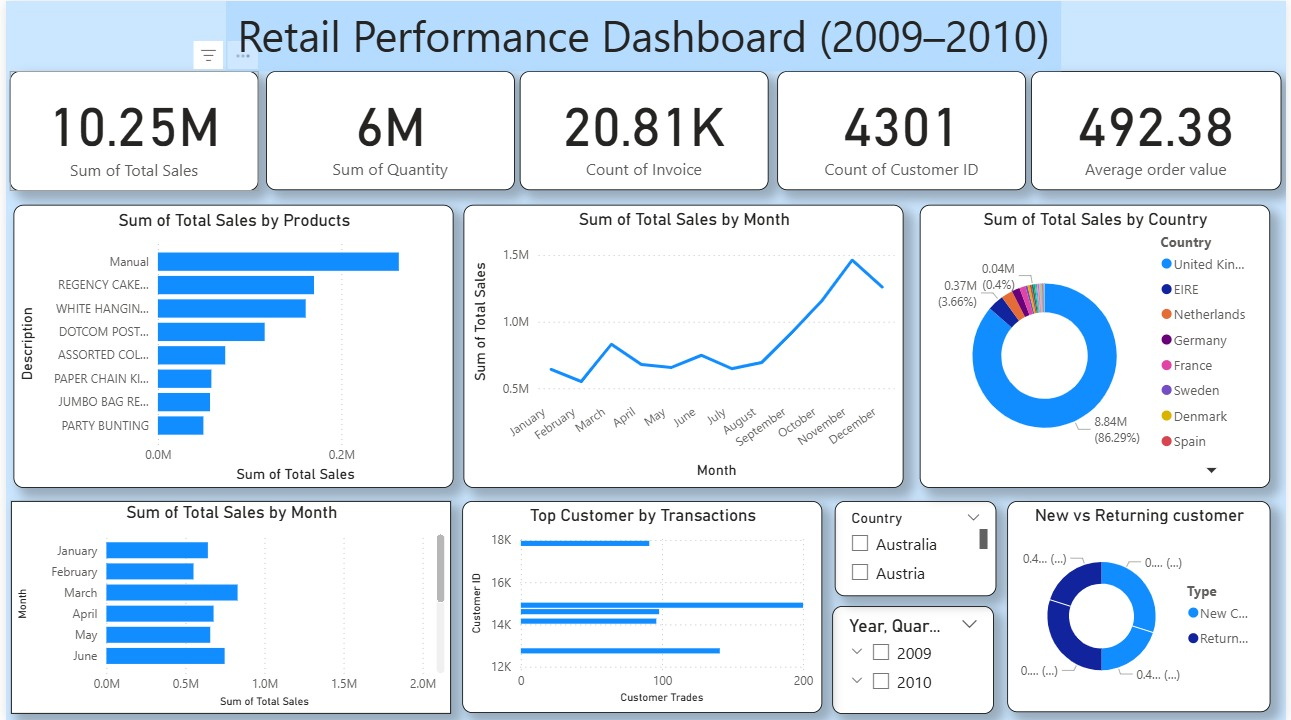

The dashboard page shown, as its layout file describes it:
{"tool":"powerbi","page":{"name":"Page 1","canvas":[1280,720],"ordinal":0},"visuals":[{"type":"card","fields":{"Values":["Sum(Year 2009-2010.Total Sales)"]},"box":[4,70,249,120],"z":0},{"type":"card","fields":{"Values":["Sum(Year 2009-2010.Quantity)"]},"box":[260,70,248.8,119.4],"z":1000},{"type":"card","fields":{"Values":["Count(Year 2009-2010.Invoice)"]},"box":[514,70,248.8,119.4],"z":2000},{"type":"card","fields":{"Values":["Count(Year 2009-2010.Customer ID)"]},"box":[771,70,248.8,119.4],"z":3000},{"type":"card","fields":{"Values":["Year 2009-2010.Average order value"]},"box":[1025,70,250,119.4],"z":4000},{"type":"clusteredBarChart","title":"Sum of Total Sales by Products","fields":{"Y":["Sum(Year 2009-2010.Total Sales)"],"Category":["Year 2009-2010.Description"]},"box":[4,204,440,283.3],"z":5000},{"type":"lineChart","fields":{"Y":["Sum(Year 2009-2010.Total Sales)"],"Category":["Year 2009-2010.InvoiceDate.Variation.Date Hierarchy.Month"]},"box":[457.1,204,440,282.9],"z":6000},{"type":"slicer","fields":{"Values":["Year 2009-2010.InvoiceDate.Variation.Date Hierarchy.Year","Year 2009-2010.InvoiceDate.Variation.Date Hierarchy.Quarter","Year 2009-2010.InvoiceDate.Variation.Date Hierarchy.Month","Year 2009-2010.InvoiceDate.Variation.Date Hierarchy.Day"]},"box":[826.7,605,161.7,108.3],"z":8000},{"type":"slicer","fields":{"Values":["Year 2009-2010.Country"]},"box":[828.3,500,161.7,95],"z":9000},{"type":"clusteredBarChart","fields":{"Category":["Year 2009-2010.InvoiceDate.Variation.Date Hierarchy.Month"],"Y":["Sum(Year 2009-2010.Total Sales)"]},"box":[5,500,440,212.5],"z":10000},{"type":"donutChart","fields":{"Category":["Year 2009-2010.Country"],"Y":["Sum(Year 2009-2010.Total Sales)"]},"box":[908.6,204,350,282.9],"z":10001},{"type":"clusteredBarChart","title":"Top Customer by Transactions","fields":{"Category":["Year 2009-2010.Customer ID"],"Y":["Year 2009-2010.Customer Trades"]},"box":[456.7,500,360,211.7],"z":10002},{"type":"textbox","box":[220,0,835,70],"z":10003}]}

Visuals, with their boxes in screenshot pixels (x1, y1, x2, y2), scaled from the page's 1280x720 canvas onto the 1291x720 screenshot:
card - Sum(Year 2009-2010.Total Sales): {"x1": 4, "y1": 70, "x2": 255, "y2": 190}
card - Sum(Year 2009-2010.Quantity): {"x1": 262, "y1": 70, "x2": 513, "y2": 189}
card - Count(Year 2009-2010.Invoice): {"x1": 518, "y1": 70, "x2": 769, "y2": 189}
card - Count(Year 2009-2010.Customer ID): {"x1": 778, "y1": 70, "x2": 1029, "y2": 189}
card - Year 2009-2010.Average order value: {"x1": 1034, "y1": 70, "x2": 1286, "y2": 189}
"Sum of Total Sales by Products" clusteredBarChart: {"x1": 4, "y1": 204, "x2": 448, "y2": 487}
lineChart - Sum(Year 2009-2010.Total Sales) x Year 2009-2010.InvoiceDate.Variation.Date Hierarchy.Month: {"x1": 461, "y1": 204, "x2": 905, "y2": 487}
slicer - Year 2009-2010.InvoiceDate.Variation.Date Hierarchy.Year x Year 2009-2010.InvoiceDate.Variation.Date Hierarchy.Quarter: {"x1": 834, "y1": 605, "x2": 997, "y2": 713}
slicer - Year 2009-2010.Country: {"x1": 835, "y1": 500, "x2": 999, "y2": 595}
clusteredBarChart - Year 2009-2010.InvoiceDate.Variation.Date Hierarchy.Month x Sum(Year 2009-2010.Total Sales): {"x1": 5, "y1": 500, "x2": 449, "y2": 712}
donutChart - Year 2009-2010.Country x Sum(Year 2009-2010.Total Sales): {"x1": 916, "y1": 204, "x2": 1269, "y2": 487}
"Top Customer by Transactions" clusteredBarChart: {"x1": 461, "y1": 500, "x2": 824, "y2": 712}
textbox: {"x1": 222, "y1": 0, "x2": 1064, "y2": 70}
